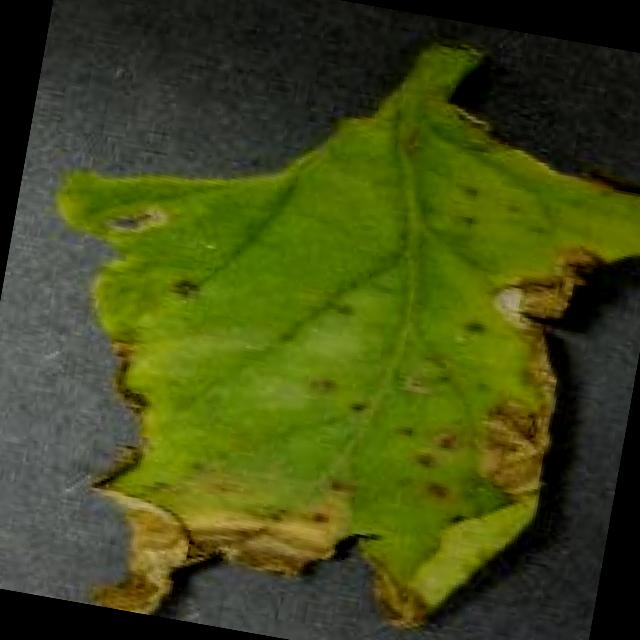bacterial spot: (51, 42, 640, 632)
